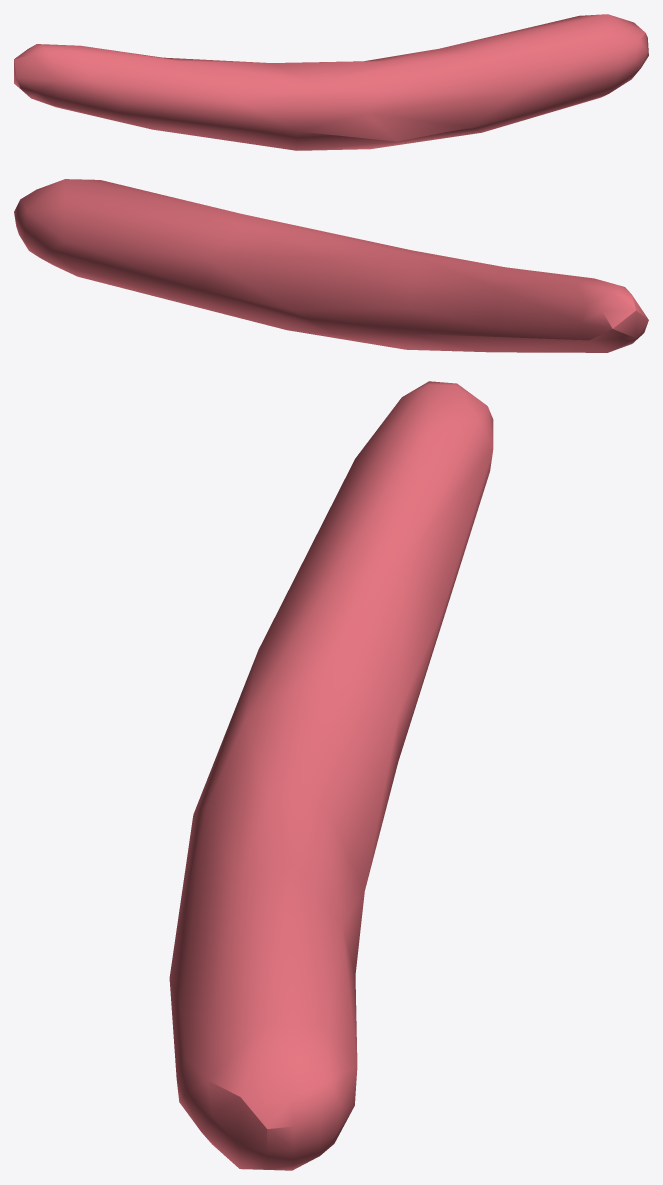
File: fma68921_fj3053.glb
3 views of the same model, one above another, from view 1: azimuth 30°, elevation 25°; view 2: azimuth 150°, elevation 25°; view 3: azimuth 270°, elevation 25° (orthographic). The views are drawn at different scales.
Parts seen in each view (by area): view 1: FMA68921_FJ3053; view 2: FMA68921_FJ3053; view 3: FMA68921_FJ3053.
Part boxes in pixels (left/top/right/bottom): FMA68921_FJ3053: left=14, top=14, right=648, bottom=150; FMA68921_FJ3053: left=14, top=179, right=648, bottom=352; FMA68921_FJ3053: left=169, top=381, right=493, bottom=1170.
Bounding box in the file's own units: 0.02 × 0.00477 × 0.00476.
